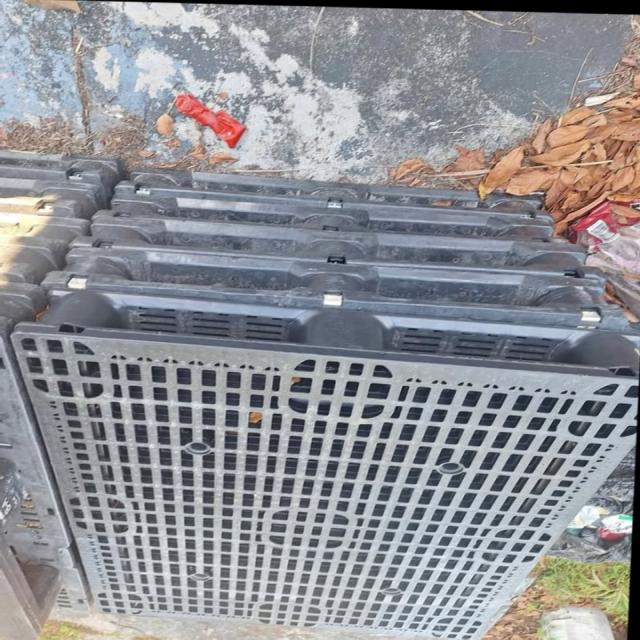non-igps: (0, 283, 640, 640), (32, 238, 636, 338), (62, 203, 616, 295), (85, 178, 569, 255), (102, 158, 562, 238), (0, 276, 97, 618), (0, 309, 96, 640), (0, 449, 68, 640), (0, 142, 130, 205), (0, 207, 98, 276), (0, 172, 104, 225), (0, 241, 70, 295)
